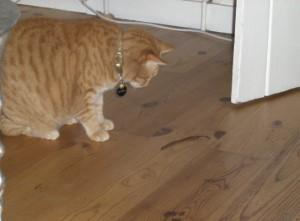earthworms: (150, 132, 225, 158)
